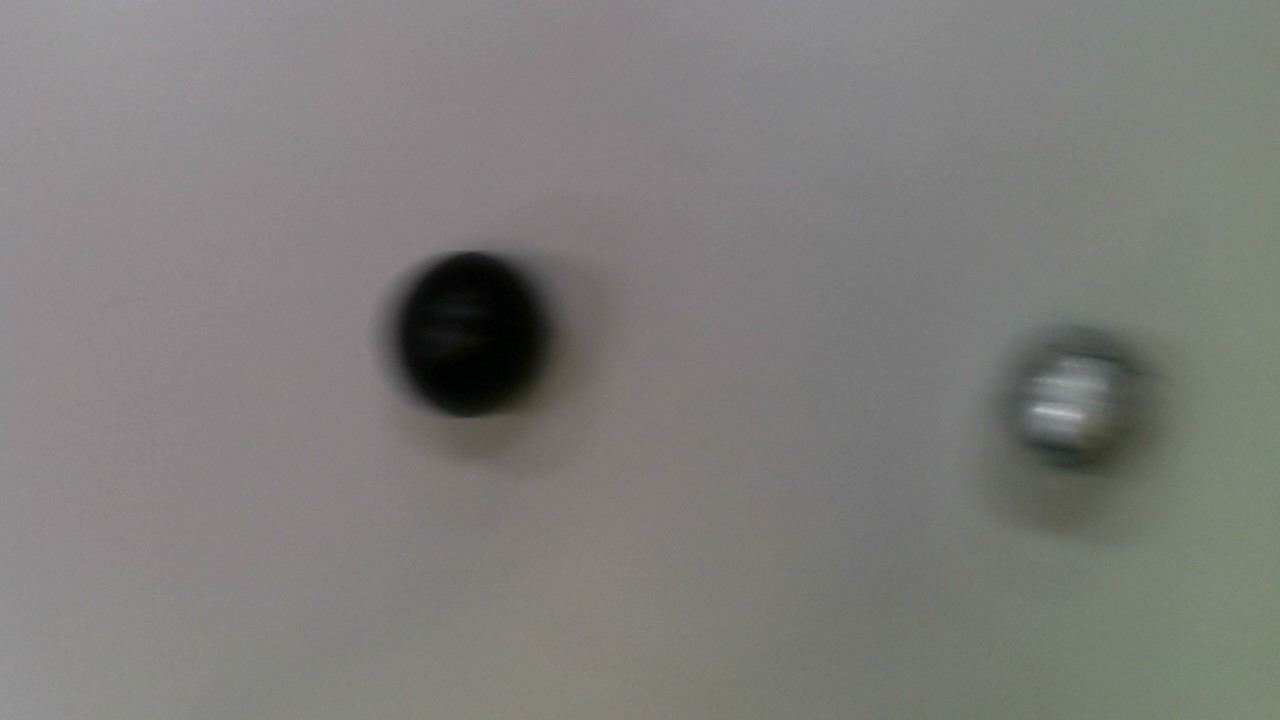black_ball: (387, 245, 554, 421)
silver_ball: (989, 327, 1156, 481)
